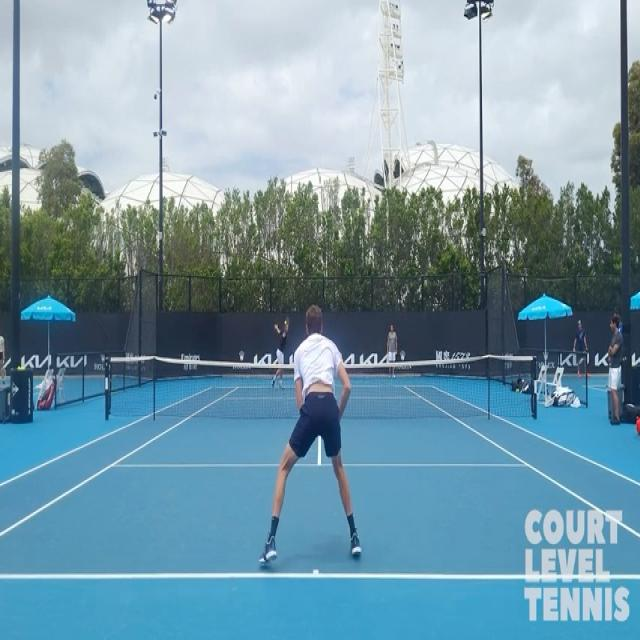ready-position: (256, 308, 373, 571)
